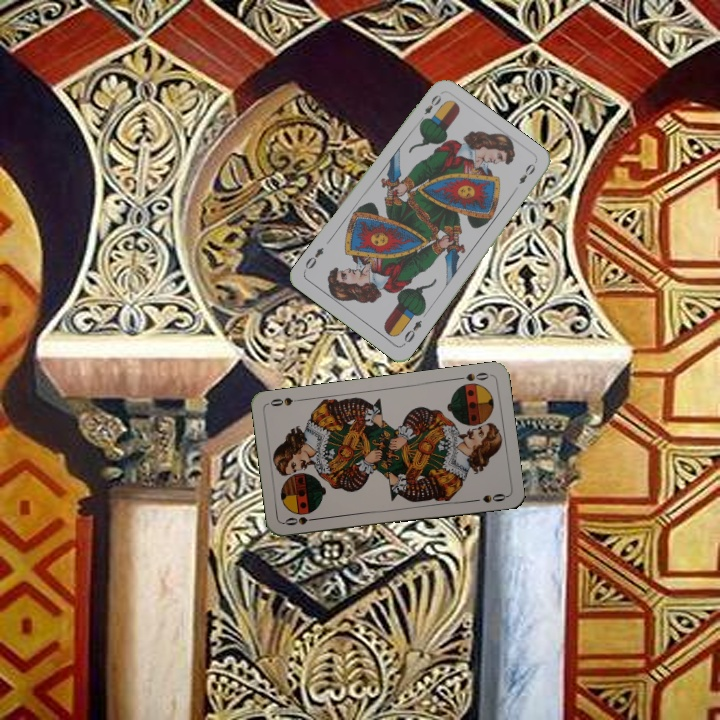EO: (414, 90, 444, 126), (399, 316, 424, 348)
SO: (452, 368, 493, 384), (281, 513, 321, 528)
